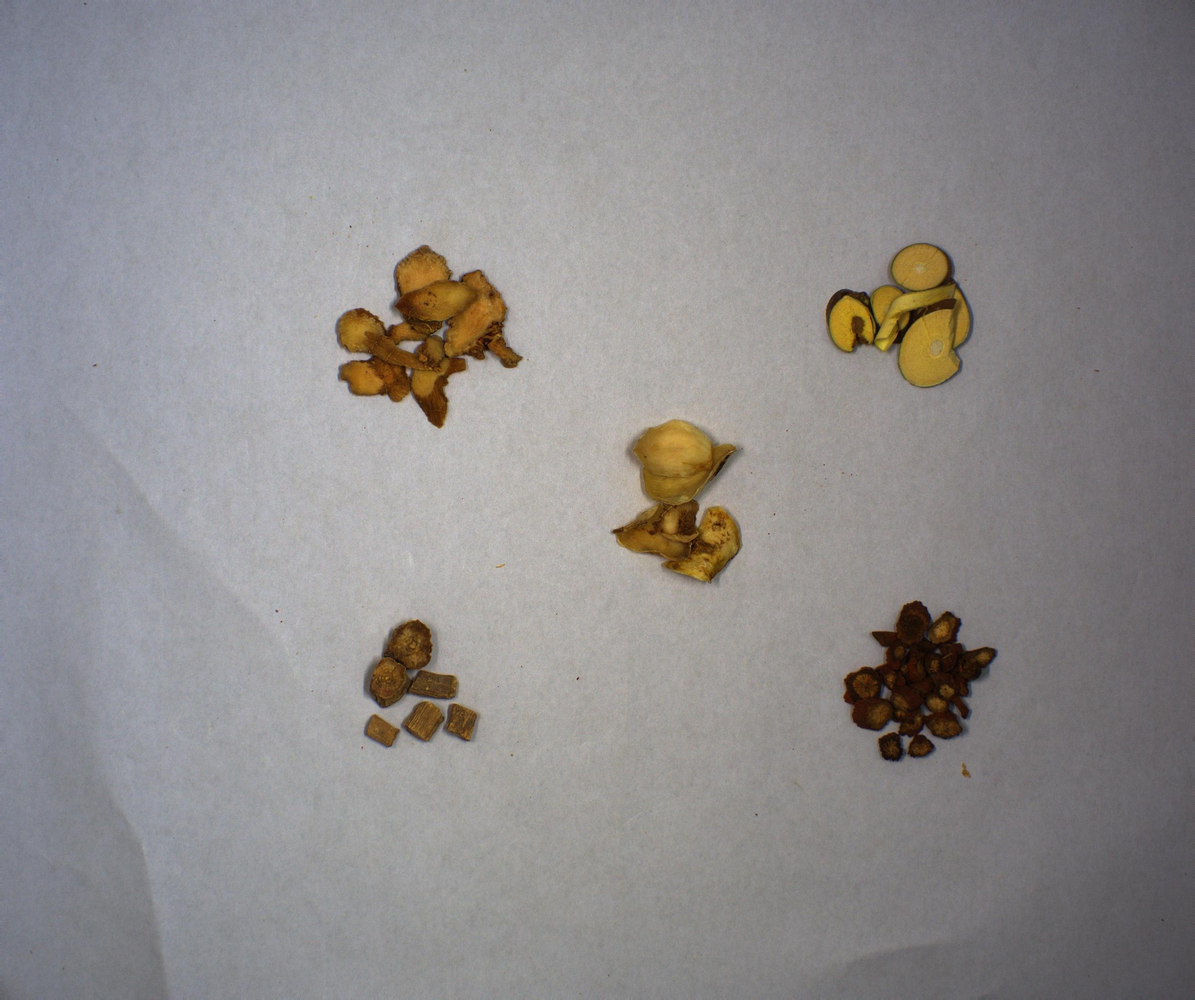baihe: (618, 422, 742, 581)
danshen: (844, 602, 998, 763)
niuxi: (364, 621, 476, 747)
sangzhi: (829, 243, 974, 388)
yuzhu: (332, 248, 522, 422)
